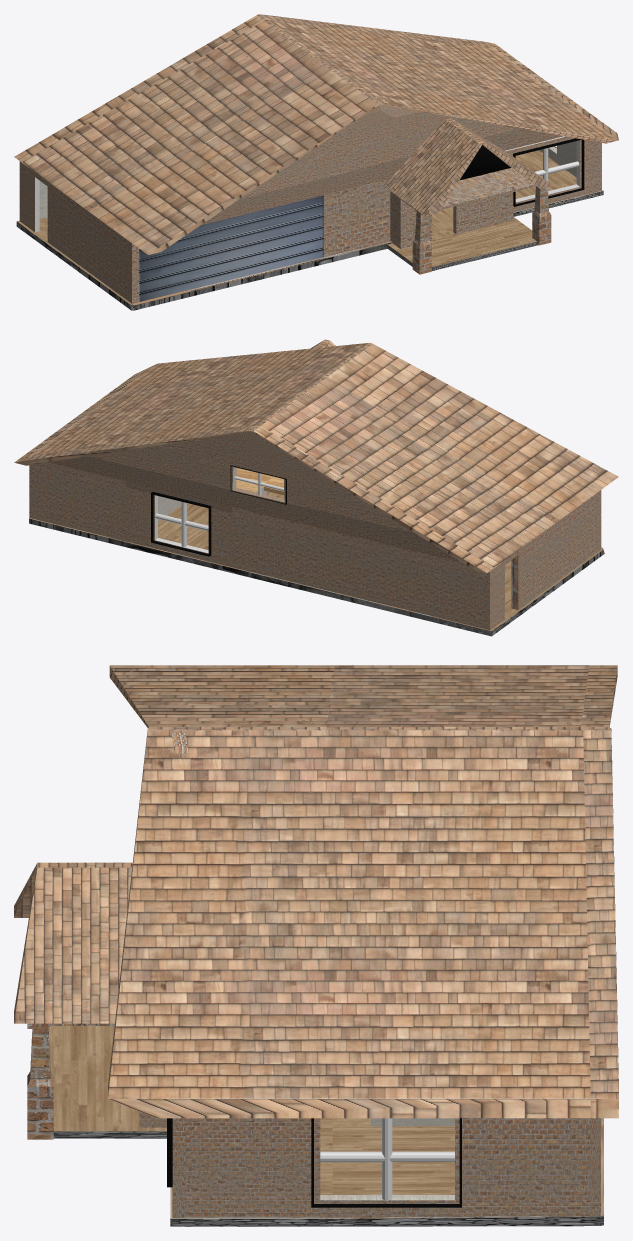
File: House.fbx
The picture shows the model from 3 angles, top to bottom: view 1: azimuth 30°, elevation 25°; view 2: azimuth 150°, elevation 25°; view 3: azimuth 270°, elevation 25°; orthographic projection. The views are drawn at different scales.
Visible parts, largest first — view 1: Cube.007, Cube.002, Cube.006, Cube.034, Cube.001, Cube.003, Cube, Cube.004, Cube.024, Cube.028; view 2: Cube.007, Cube.001, Cube.006, Cube.029, Cube.002, Cube.026, Cube.022; view 3: Cube.006, Cube.001, Cube.007, Cube.003, Cube.002, Cube.004, Cube, Cube.031, Cylinder.006, Cylinder.008.
Part boxes in pixels (bbox=[...]): Cube.007: bbox=[14, 15, 380, 254]; Cube.002: bbox=[16, 150, 603, 310]; Cube.006: bbox=[257, 14, 618, 143]; Cube.034: bbox=[201, 96, 562, 225]; Cube.001: bbox=[19, 45, 601, 234]; Cube.003: bbox=[383, 118, 552, 216]; Cube: bbox=[392, 168, 551, 274]; Cube.004: bbox=[387, 217, 538, 270]; Cube.024: bbox=[460, 145, 510, 180]; Cube.028: bbox=[513, 138, 584, 206]; Cube.007: bbox=[251, 343, 618, 573]; Cube.001: bbox=[29, 376, 517, 629]; Cube.006: bbox=[14, 342, 371, 465]; Cube.029: bbox=[48, 431, 461, 562]; Cube.002: bbox=[29, 490, 604, 636]; Cube.026: bbox=[151, 491, 211, 556]; Cube.022: bbox=[236, 468, 284, 495]; Cube.006: bbox=[108, 728, 618, 1118]; Cube.001: bbox=[139, 1098, 600, 1217]; Cube.007: bbox=[109, 665, 617, 729]; Cube.003: bbox=[14, 862, 132, 1023]; Cube.002: bbox=[170, 1118, 603, 1226]; Cube.004: bbox=[48, 1026, 166, 1138]; Cube: bbox=[27, 1023, 114, 1139]; Cube.031: bbox=[311, 1118, 461, 1207]; Cylinder.006: bbox=[382, 1118, 392, 1201]; Cylinder.008: bbox=[320, 1151, 384, 1162].
Size of the model in its own units: 1921 by 575 by 1103.
